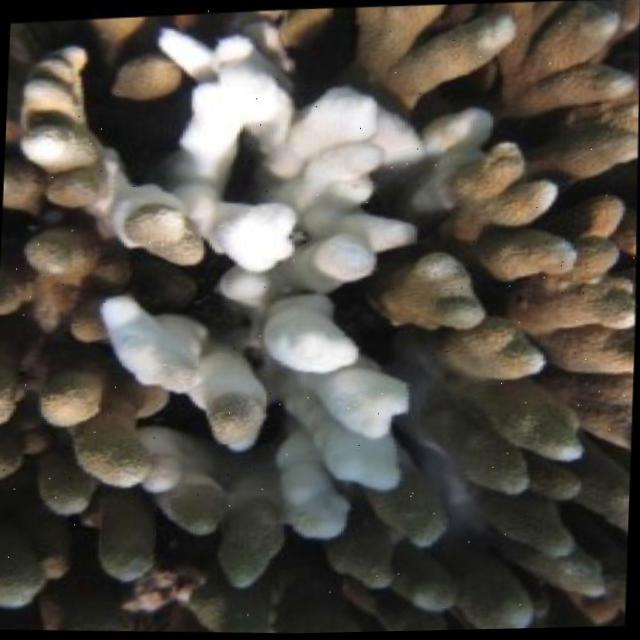Bleached Coral: (87, 0, 501, 585)
